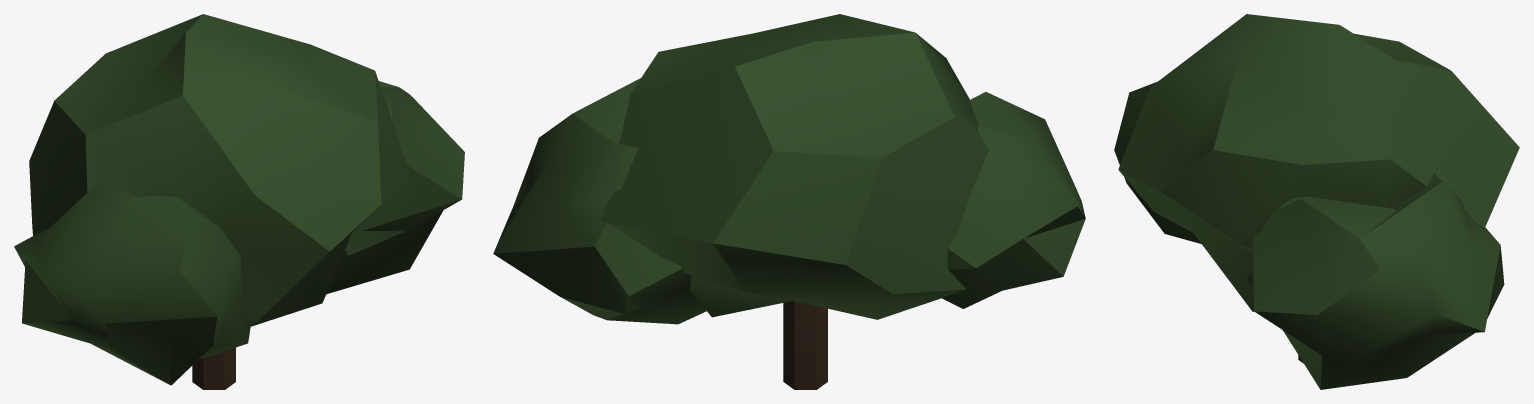
File: prop_bush.glb
3 renders of one model, left to right at view 1: azimuth 30°, elevation 25°; view 2: azimuth 150°, elevation 25°; view 3: azimuth 270°, elevation 25°, orthographic. The views are drawn at different scales.
Parts seen in each view (by area): view 1: prop; view 2: prop; view 3: prop.
Part boxes in pixels (box(x1,y1,x2,y2)): prop: box(14, 14, 464, 389); prop: box(493, 14, 1085, 389); prop: box(1114, 14, 1519, 389).
Size of the model in its own units: 1.75 by 1.22 by 1.37.
